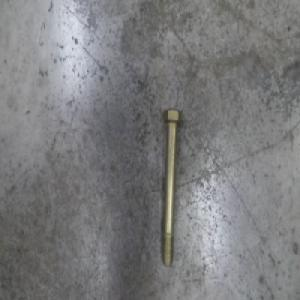Bolt: (161, 107, 182, 270)
